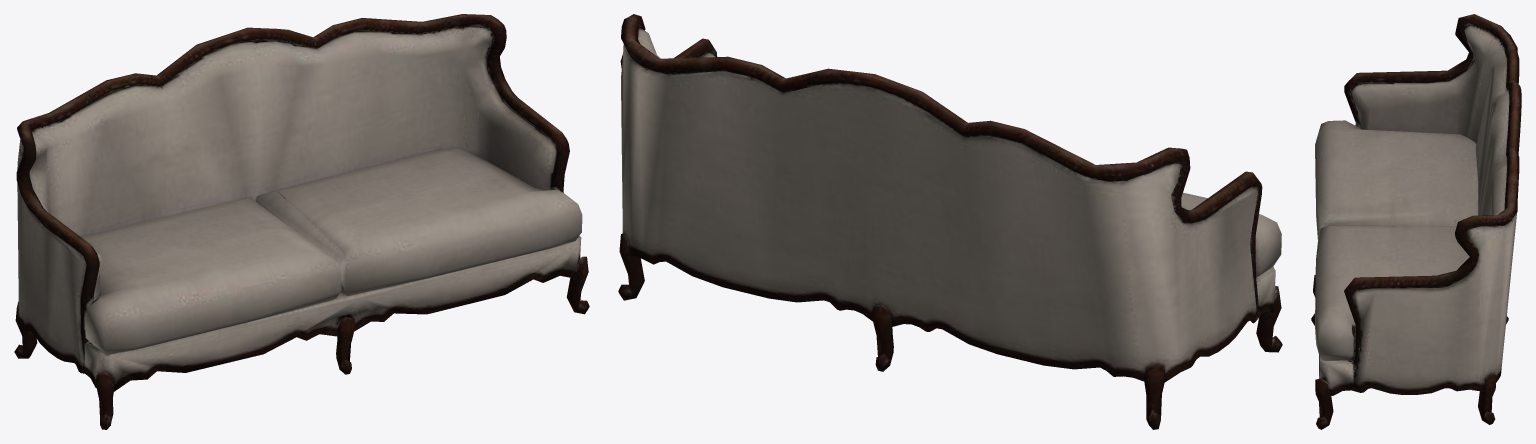
Rendered from sofa.glb.
3 renders of one model, left to right at view 1: azimuth 30°, elevation 25°; view 2: azimuth 150°, elevation 25°; view 3: azimuth 270°, elevation 25°, orthographic. The views are drawn at different scales.
Parts seen in each view (by area): view 1: lo; view 2: lo; view 3: lo.
Part boxes in pixels (x1,y1,x2,y2): lo: [14, 14, 589, 429]; lo: [618, 14, 1282, 429]; lo: [1311, 14, 1521, 429].
Bounding box in the file's own units: 1.57 × 0.7963 × 0.6597.
Materials: 1 (1 with a texture image).
